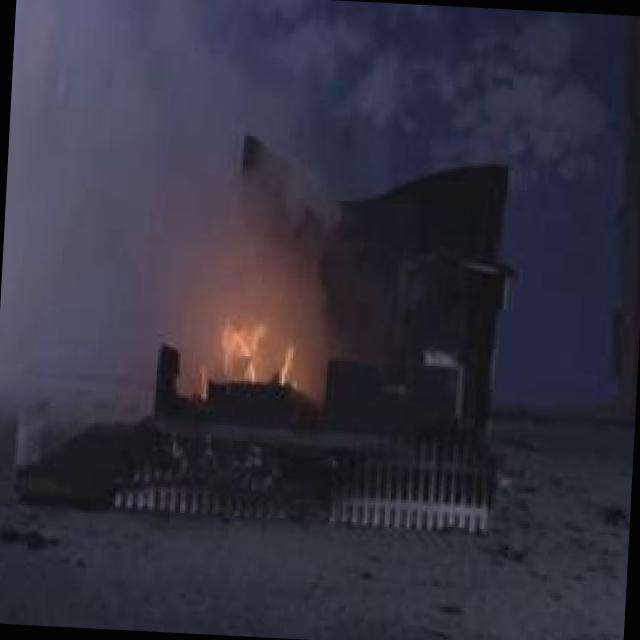fire: (195, 278, 322, 392)
smoke: (1, 0, 348, 295)
